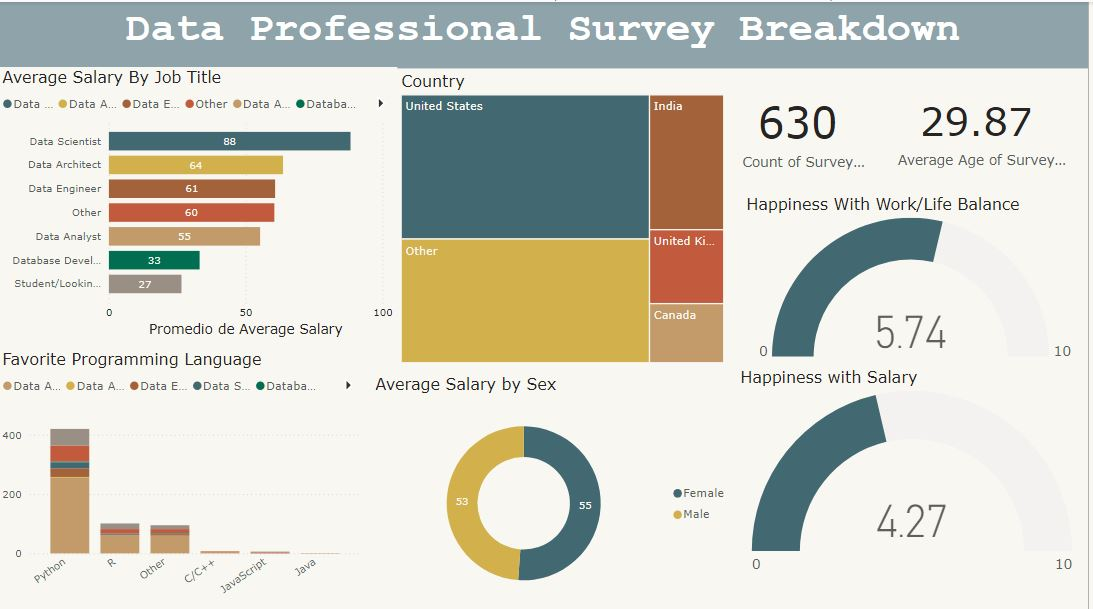

The dashboard page shown, as its layout file describes it:
{"tool":"powerbi","page":{"name":"Página 1","canvas":[1280,720],"ordinal":0},"visuals":[{"type":"textbox","box":[0,0,1280,78.4],"z":0},{"type":"cardVisual","fields":{"Data":["CountNonNull(Data Professional Survey.Unique ID)"]},"box":[836.1,78.7,206.7,149.1],"z":1},{"type":"cardVisual","fields":{"Data":["Avg(Data Professional Survey.Q10 - Current Age)"]},"box":[1018.1,78.7,261.9,149.1],"z":2},{"type":"barChart","title":"Average Salary By Job Title","fields":{"Category":["Data Professional Survey.Q1 - Which Title Best Fits your Current Role?.1"],"Y":["Avg(Data Professional Survey.Average Salary)"],"Series":["Data Professional Survey.Q1 - Which Title Best Fits your Current Role?.1"]},"box":[0,76.3,468.6,321.8],"z":3},{"type":"columnChart","title":"Favorite Programming Language","fields":{"Category":["Data Professional Survey.Q5 - Favorite Programming Language.1"],"Y":["CountNonNull(Data Professional Survey.Unique ID)"],"Series":["Data Professional Survey.Q1 - Which Title Best Fits your Current Role?.1"]},"box":[0,407.5,431,312.4],"z":4},{"type":"treemap","title":"Country","fields":{"Group":["Data Professional Survey.Q11 - Which Country do you live in?.1"],"Values":["CountNonNull(Data Professional Survey.Unique ID)"]},"box":[468.6,81,388.7,347.6],"z":5},{"type":"gauge","title":"Happiness With Work/Life Balance","fields":{"Y":["Avg(Data Professional Survey.Q6 - How Happy are you in your Current Position with the following? (Work/Life Balance))"],"MinValue":["Min(Data Professional Survey.Q6 - How Happy are you in your Current Position with the following? (Work/Life Balance))"],"MaxValue":["Max(Data Professional Survey.Q6 - How Happy are you in your Current Position with the following? (Work/Life Balance))1"]},"box":[873.7,225.5,406.3,200.8],"z":6},{"type":"gauge","title":"Happiness with Salary","fields":{"Y":["Avg(Data Professional Survey.Q6 - How Happy are you in your Current Position with the following? (Salary))"],"MinValue":["Min(Data Professional Survey.Q6 - How Happy are you in your Current Position with the following? (Salary))"],"MaxValue":["Max(Data Professional Survey.Q6 - How Happy are you in your Current Position with the following? (Salary))"]},"box":[866.6,428.6,413.4,250.1],"z":7},{"type":"donutChart","title":"Average Salary by Sex","fields":{"Y":["Avg(Data Professional Survey.Average Salary)"],"Category":["Data Professional Survey.Q9 - Male/Female?"]},"box":[438,436.8,428.6,280.7],"z":8}]}

Visuals, with their boxes in screenshot pixels (x1, y1, x2, y2), scaled from the page's 1280x720 canvas onto the 1093x609 screenshot:
textbox: l=0, t=0, r=1092, b=66
cardVisual - CountNonNull(Data Professional Survey.Unique ID): l=714, t=67, r=890, b=193
cardVisual - Avg(Data Professional Survey.Q10 - Current Age): l=869, t=67, r=1092, b=193
"Average Salary By Job Title" barChart: l=0, t=65, r=400, b=337
"Favorite Programming Language" columnChart: l=0, t=345, r=368, b=608
"Country" treemap: l=400, t=69, r=732, b=363
"Happiness With Work/Life Balance" gauge: l=746, t=191, r=1092, b=361
"Happiness with Salary" gauge: l=740, t=363, r=1092, b=574
"Average Salary by Sex" donutChart: l=374, t=369, r=740, b=607
